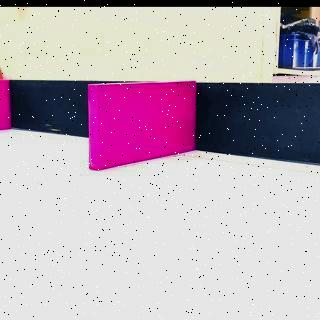xparking: (87, 83, 196, 163), (0, 81, 10, 132)
